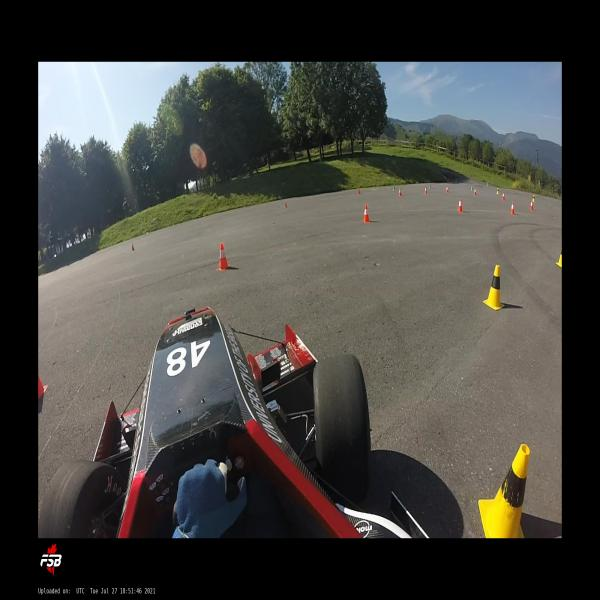orange_cone: (217, 243, 230, 271), (363, 204, 370, 222), (510, 202, 515, 215), (458, 198, 462, 212), (530, 200, 533, 210), (424, 186, 427, 194), (502, 193, 505, 200), (446, 186, 449, 193), (474, 188, 476, 196), (399, 188, 401, 196)
unknown_cone: (132, 244, 135, 250), (358, 188, 360, 194), (471, 185, 473, 191), (429, 182, 431, 188), (393, 184, 395, 190), (285, 203, 287, 208)
yellow_cone: (479, 444, 530, 538), (482, 264, 505, 311), (555, 243, 562, 267), (532, 195, 535, 202), (496, 188, 499, 195)
